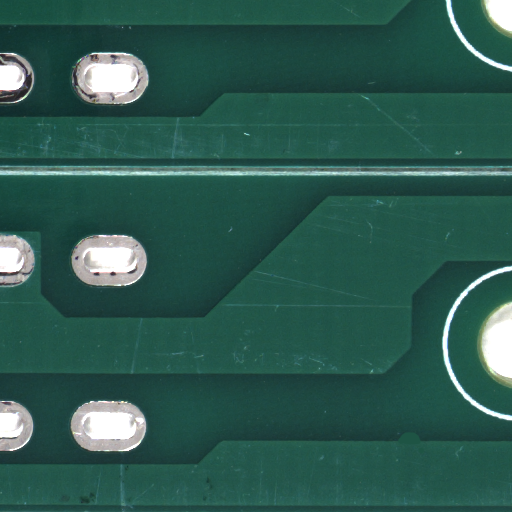Spur: (407, 436, 432, 446)
